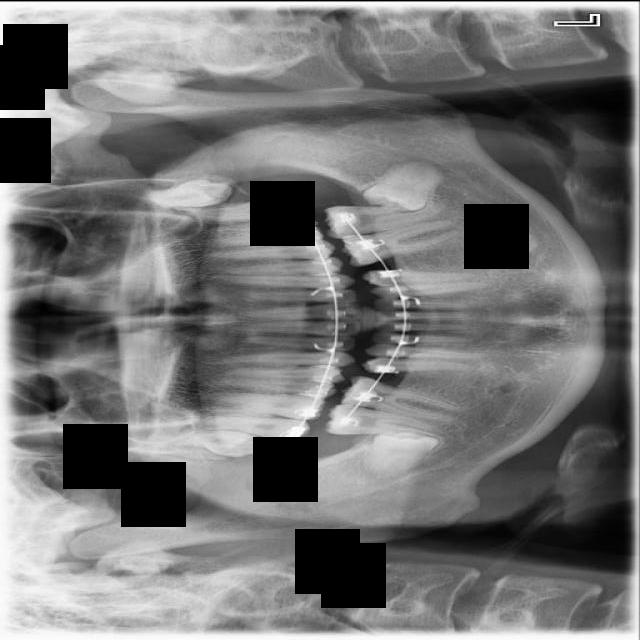3M ESPE Implant: (182, 430, 264, 456)
73: (548, 40, 563, 48)
BioHorizons Implant: (188, 191, 305, 225)
BioLife Implant: (149, 178, 233, 206)
Biomet 3i Implant: (361, 157, 441, 212)
Blue Sky Bio Implant: (323, 200, 446, 239)
Caries: (199, 412, 311, 444)
Implant: (325, 403, 440, 438)
Keystone Dental Implant: (367, 430, 440, 475)
